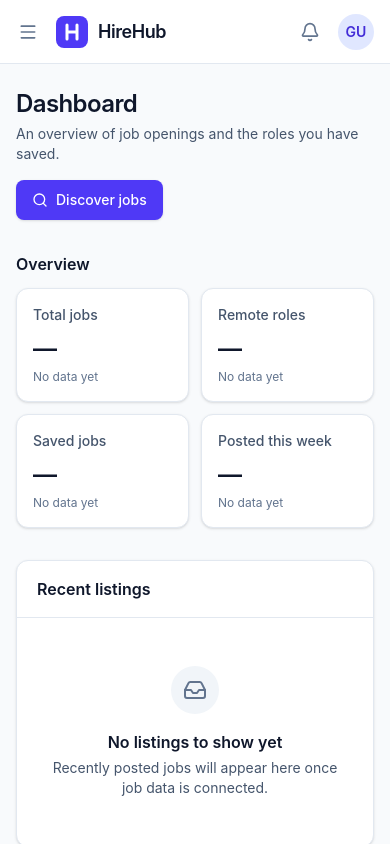
Test: mobile navigation › opens and navigates, closing after a link is chosen
The image size is (390, 844).
What coordinates should you click on to do the following:
click the button named "Open navigation menu"
I would click on:
 (28, 32)
Its box is top-left (8, 12), bottom-right (48, 52).
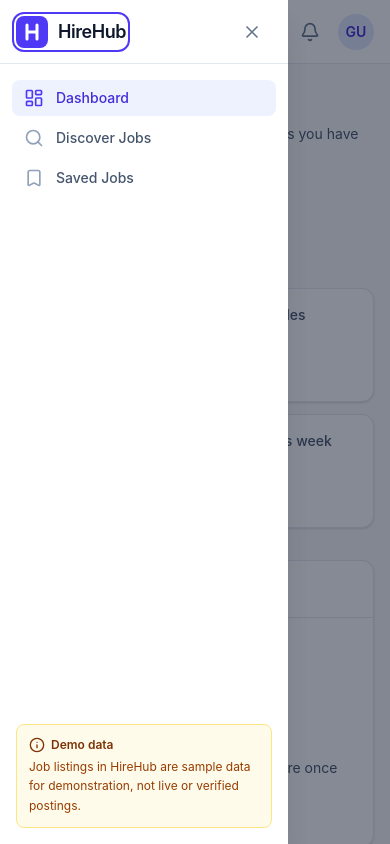
What coordinates should you click on to do the following:
click the link "Saved Jobs"
I would click on:
 (79, 178)
Its box is top-left (24, 168), bottom-right (134, 188).
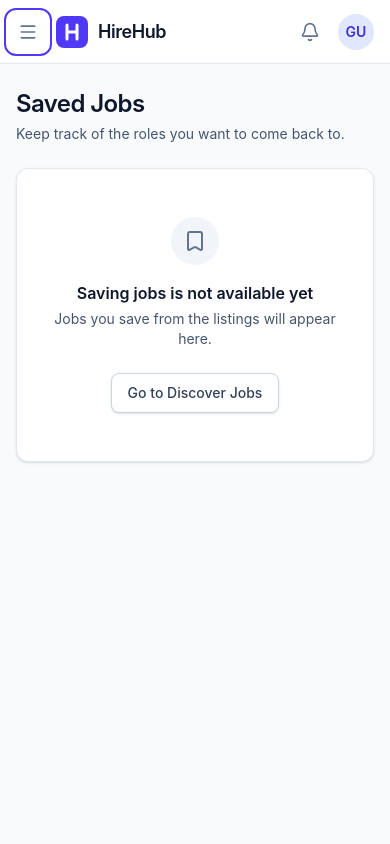
Now the heading "Saved Jobs" is shown, box top-left (16, 89), bottom-right (144, 118)
